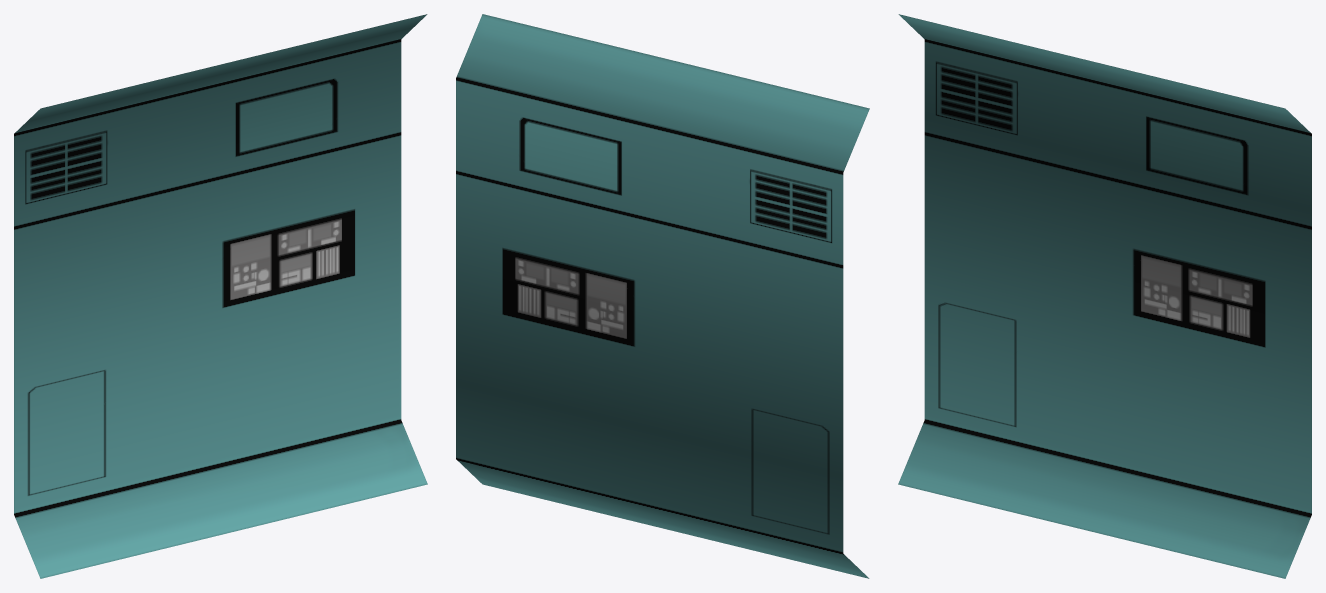
File: Hallway_Walls.fbx
The picture shows the model from 3 angles, left to right: view 1: azimuth 30°, elevation 25°; view 2: azimuth 150°, elevation 25°; view 3: azimuth 330°, elevation 25°; orthographic projection.
Visible parts, largest first — view 1: Walls_6.001; view 2: Walls_6.001; view 3: Walls_6.001.
Part boxes in pixels (x1,y1,x2,y2): Walls_6.001: (14,14,427,578); Walls_6.001: (456,14,869,578); Walls_6.001: (898,14,1311,578).
Bounding box in the file's own units: 260 × 302 × 30.82.
1 material, 1 textured.
